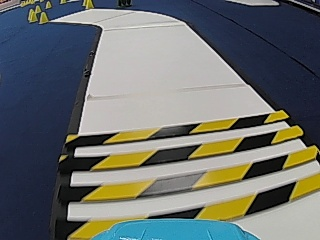bump: (80, 120, 288, 219)
